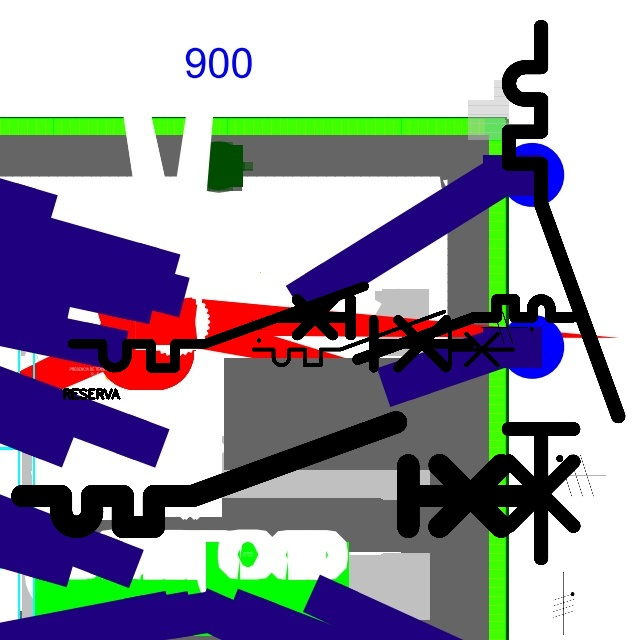interruptor_termomagnetico: (495, 13, 632, 572), (9, 409, 545, 540), (62, 276, 481, 378), (271, 292, 579, 367), (247, 305, 520, 372)
